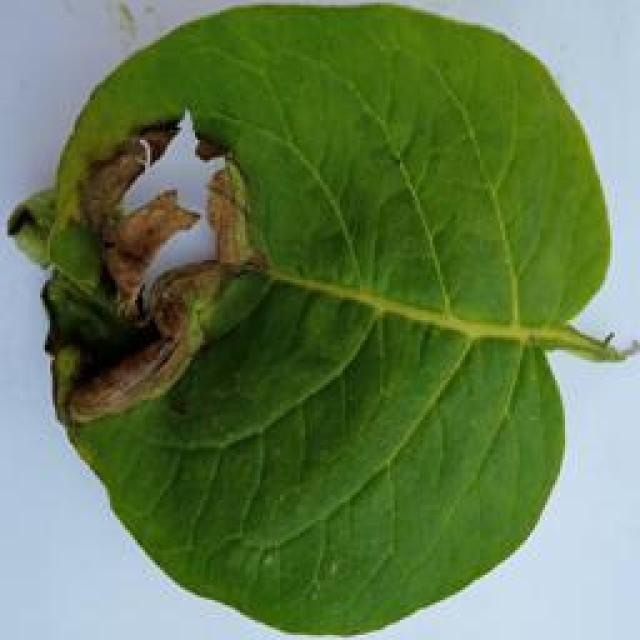Potato_Late_Blight: (8, 8, 616, 630)
